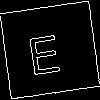E: (25, 25, 62, 76)
